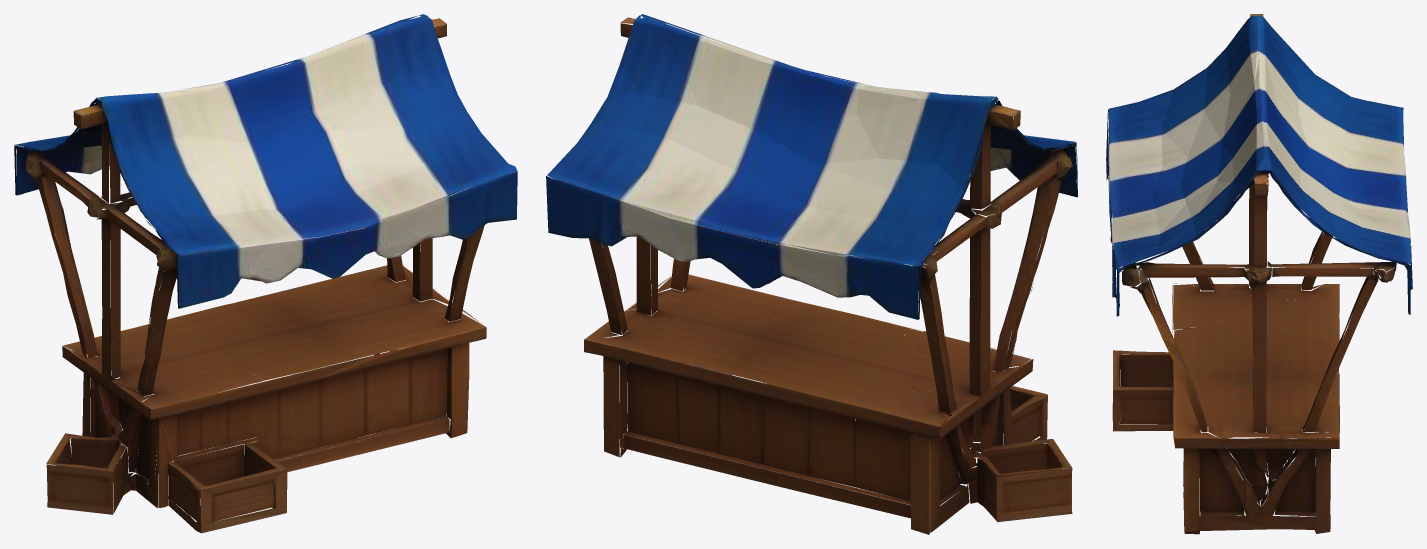
The model's file is kit_bancarella.glb.
3 views of the same model, side by side, from view 1: azimuth 30°, elevation 25°; view 2: azimuth 150°, elevation 25°; view 3: azimuth 270°, elevation 25° (orthographic). The views are drawn at different scales.
Parts seen in each view (by area): view 1: _leggero; view 2: _leggero; view 3: _leggero.
Boxes of the visible parts, x1,y1,x2,y2 form: _leggero: [14, 14, 517, 533]; _leggero: [546, 14, 1077, 534]; _leggero: [1106, 14, 1412, 534].
Size of the model in its own units: 1 by 0.9091 by 0.6853.
1 material, 1 textured.
